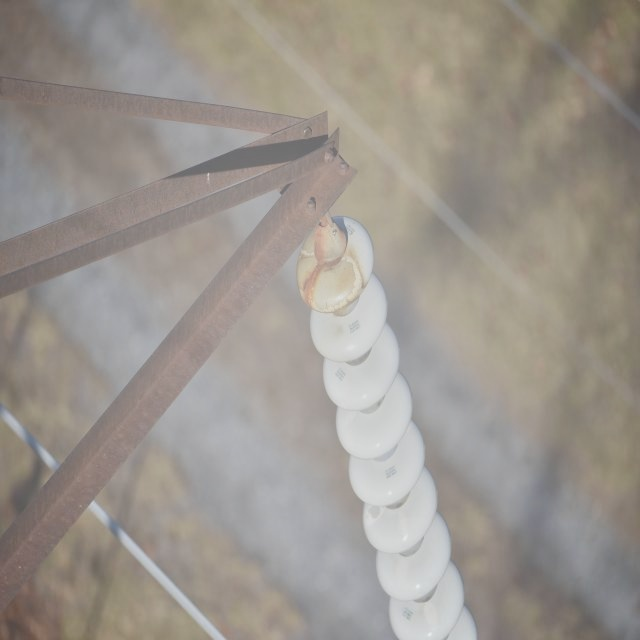insulator: (298, 217, 477, 640)
